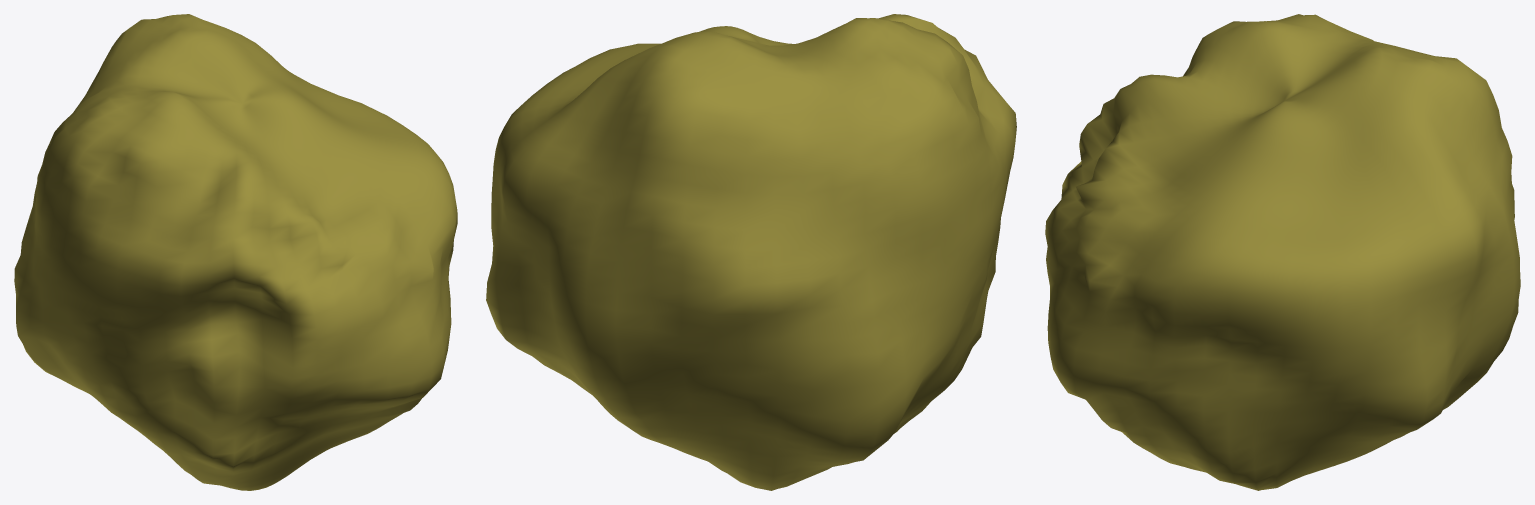
File: fol_ rock _01.fbx
3 renders of one model, left to right at view 1: azimuth 30°, elevation 25°; view 2: azimuth 150°, elevation 25°; view 3: azimuth 270°, elevation 25°, orthographic. The views are drawn at different scales.
Parts seen in each view (by area): view 1: fol_rock_01; view 2: fol_rock_01; view 3: fol_rock_01.
Boxes of the visible parts, x1=… form: fol_rock_01: x1=14, y1=14, x2=457, y2=490; fol_rock_01: x1=486, y1=14, x2=1016, y2=490; fol_rock_01: x1=1045, y1=14, x2=1520, y2=490.
Size of the model in its own units: 5.26 by 5.37 by 5.51.
